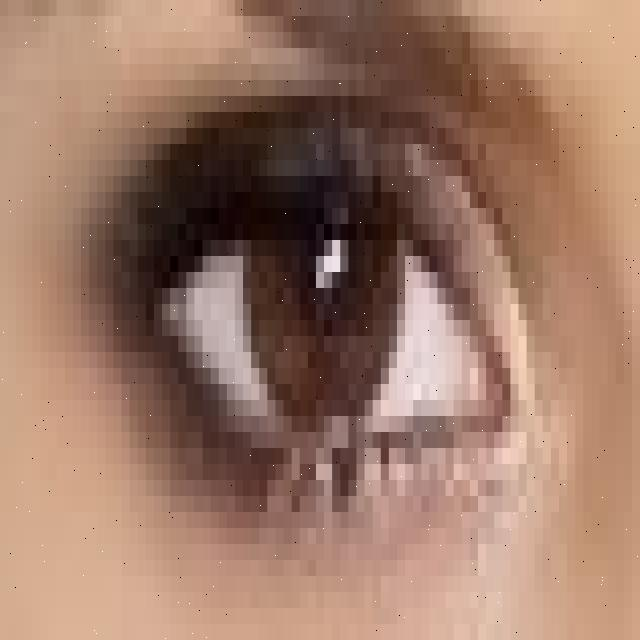Normal: (242, 133, 404, 436)
